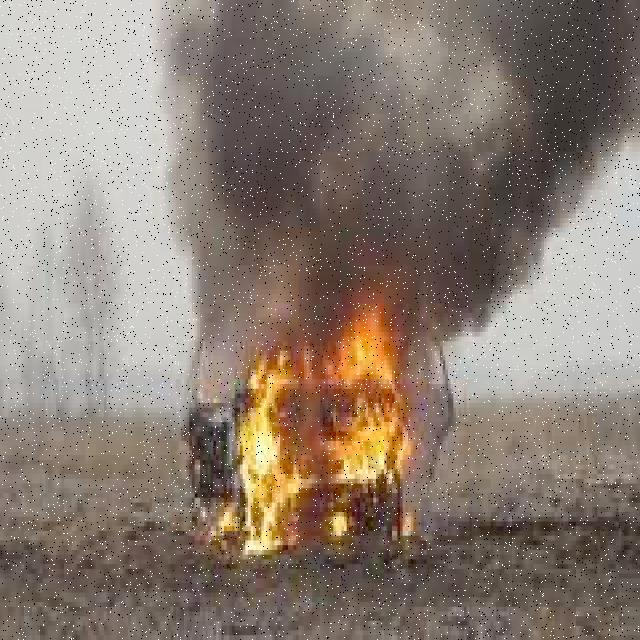fire: (227, 320, 413, 547)
smoke: (170, 12, 636, 318)
